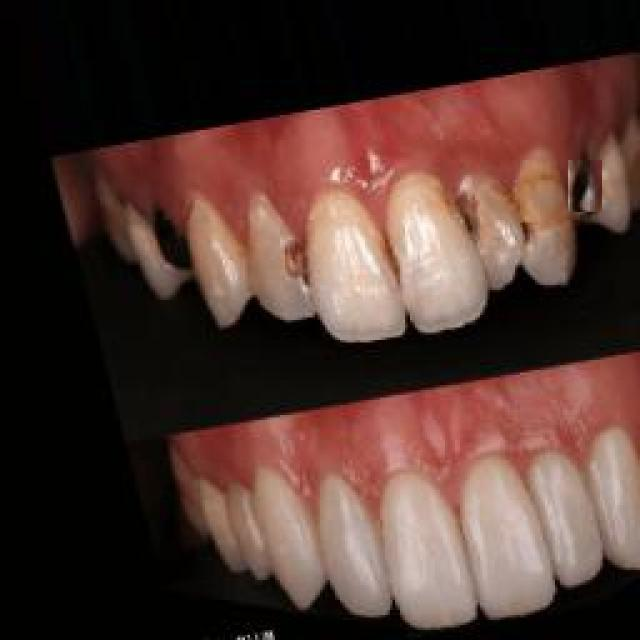caries: (153, 215, 195, 270), (568, 160, 602, 212), (458, 197, 488, 235), (288, 245, 310, 277)
